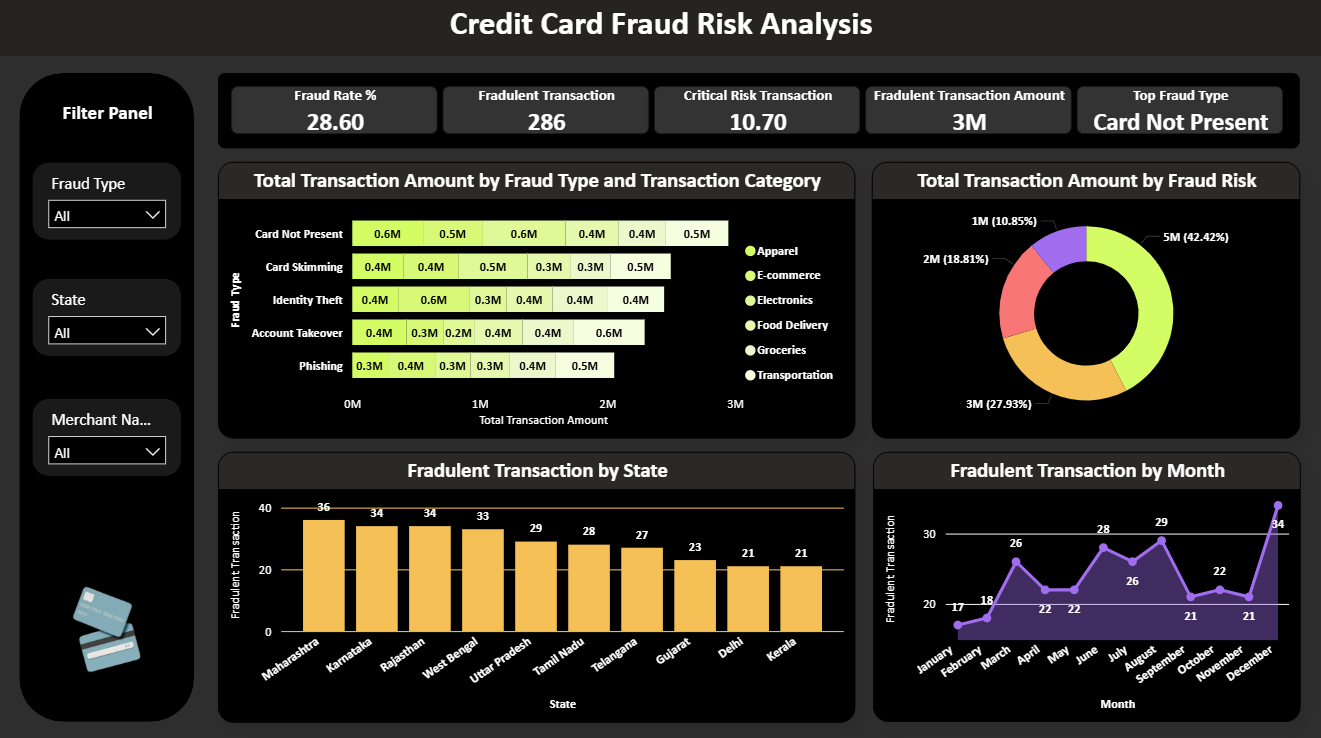

What the dashboard file says about the page in this screenshot:
{"tool":"powerbi","page":{"name":"Credit Card Fraud Risk Analysis","canvas":[1280,720],"ordinal":0},"visuals":[{"type":"textbox","box":[0,0,1280.3,56.3],"z":0},{"type":"shape","box":[20,72.5,168.8,626.2],"z":1000},{"type":"textbox","box":[52.5,93.8,105,33.8],"z":2000},{"type":"barChart","fields":{"Y":["Credit Card Fraud Risk Analysis.Total Transaction Amount"],"Category":["Credit Card Fraud Risk Analysis.Fraud Type"],"Series":["Credit Card Fraud Risk Analysis.Transaction Category"]},"box":[212.5,157.5,615,267.5],"z":3000},{"type":"donutChart","fields":{"Y":["Credit Card Fraud Risk Analysis.Total Transaction Amount"],"Category":["Credit Card Fraud Risk Analysis.Fraud Risk"]},"box":[843.8,157.5,413.8,267.5],"z":4000},{"type":"columnChart","fields":{"Category":["Credit Card Fraud Risk Analysis.State"],"Y":["Credit Card Fraud Risk Analysis.Fradulent Transaction"]},"box":[212.5,437.5,615,261.2],"z":5000},{"type":"lineChart","fields":{"Category":["Credit Card Fraud Risk Analysis.Transaction Date.Variation.Date Hierarchy.Month"],"Y":["Credit Card Fraud Risk Analysis.Fradulent Transaction"]},"box":[844,438,413,261],"z":6000},{"type":"slicer","fields":{"Values":["Credit Card Fraud Risk Analysis.Fraud Type"]},"box":[32.5,157.5,145,76.2],"z":7000},{"type":"slicer","fields":{"Values":["Credit Card Fraud Risk Analysis.State"]},"box":[32.5,270,145,76.2],"z":8000},{"type":"slicer","fields":{"Values":["Credit Card Fraud Risk Analysis.Merchant Name"]},"box":[32.5,386.2,145,76.2],"z":9000},{"type":"image","box":[32.5,550,145,118.8],"z":10000},{"type":"cardVisual","fields":{"Data":["Credit Card Fraud Risk Analysis.Fraud Rate %","Credit Card Fraud Risk Analysis.Fradulent Transaction","Credit Card Fraud Risk Analysis.Critical Risk Transaction","Credit Card Fraud Risk Analysis.Fradulent Transaction Amount","Credit Card Fraud Risk Analysis.Top Fraud Type"]},"box":[212.5,72.5,1043.8,72.5],"z":11000}]}

Visuals, with their boxes in screenshot pixels (x1, y1, x2, y2), scaled from the page's 1280x720 canvas onto the 1321x738 screenshot:
textbox: {"x1": 0, "y1": 0, "x2": 1320, "y2": 58}
shape: {"x1": 21, "y1": 74, "x2": 195, "y2": 716}
textbox: {"x1": 54, "y1": 96, "x2": 163, "y2": 131}
barChart - Credit Card Fraud Risk Analysis.Total Transaction Amount x Credit Card Fraud Risk Analysis.Fraud Type: {"x1": 219, "y1": 161, "x2": 854, "y2": 436}
donutChart - Credit Card Fraud Risk Analysis.Total Transaction Amount x Credit Card Fraud Risk Analysis.Fraud Risk: {"x1": 871, "y1": 161, "x2": 1298, "y2": 436}
columnChart - Credit Card Fraud Risk Analysis.State x Credit Card Fraud Risk Analysis.Fradulent Transaction: {"x1": 219, "y1": 448, "x2": 854, "y2": 716}
lineChart - Credit Card Fraud Risk Analysis.Transaction Date.Variation.Date Hierarchy.Month x Credit Card Fraud Risk Analysis.Fradulent Transaction: {"x1": 871, "y1": 449, "x2": 1297, "y2": 716}
slicer - Credit Card Fraud Risk Analysis.Fraud Type: {"x1": 34, "y1": 161, "x2": 183, "y2": 240}
slicer - Credit Card Fraud Risk Analysis.State: {"x1": 34, "y1": 277, "x2": 183, "y2": 355}
slicer - Credit Card Fraud Risk Analysis.Merchant Name: {"x1": 34, "y1": 396, "x2": 183, "y2": 474}
image: {"x1": 34, "y1": 564, "x2": 183, "y2": 686}
cardVisual - Credit Card Fraud Risk Analysis.Fraud Rate % x Credit Card Fraud Risk Analysis.Fradulent Transaction: {"x1": 219, "y1": 74, "x2": 1297, "y2": 149}
